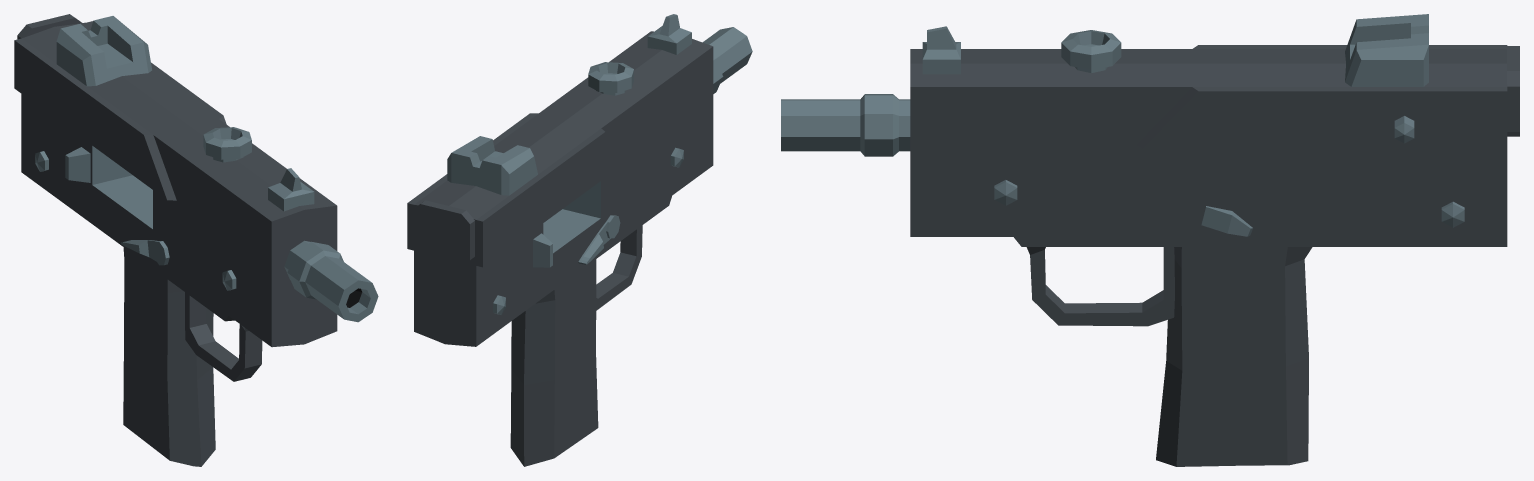
Rendered from UZI.fbx.
3 views of the same model, side by side, from view 1: azimuth 30°, elevation 25°; view 2: azimuth 150°, elevation 25°; view 3: azimuth 270°, elevation 25° (orthographic). The views are drawn at different scales.
Visible parts, largest first — view 1: SM_Wep_Machine_Pistol_01; view 2: SM_Wep_Machine_Pistol_01; view 3: SM_Wep_Machine_Pistol_01.
Boxes of the visible parts, bbox=[...] form: SM_Wep_Machine_Pistol_01: bbox=[14, 14, 378, 466]; SM_Wep_Machine_Pistol_01: bbox=[407, 14, 752, 466]; SM_Wep_Machine_Pistol_01: bbox=[781, 14, 1519, 466].
Bounding box in the file's own units: 1020 × 3429 × 5233.
